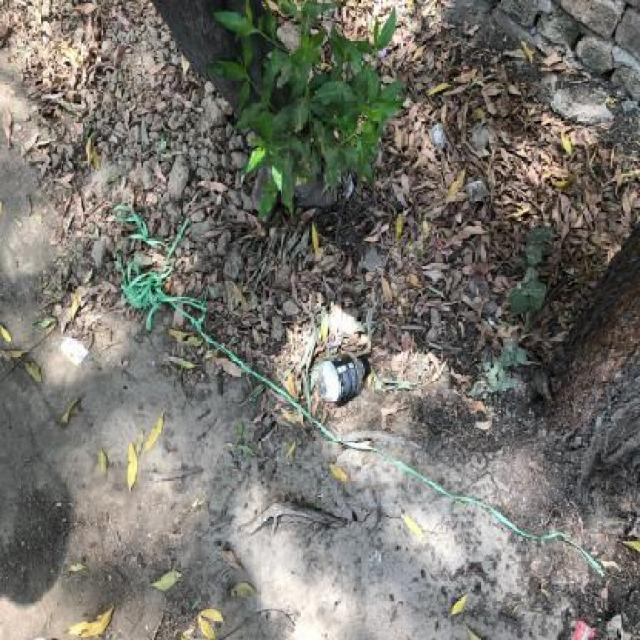garbage: (300, 340, 388, 419), (55, 322, 92, 380)
